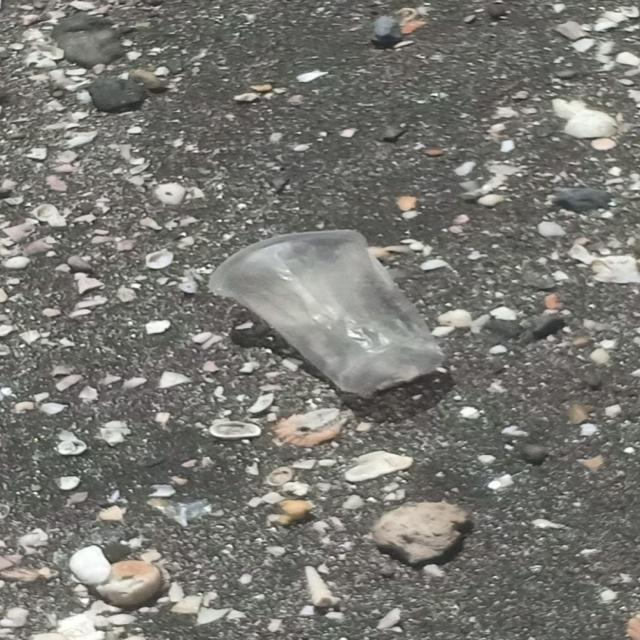plastic_waste: (211, 228, 447, 396)
